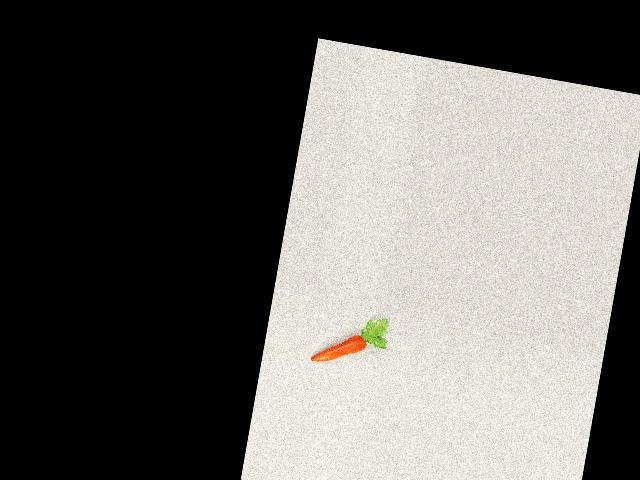carrot: (307, 321, 375, 372)
